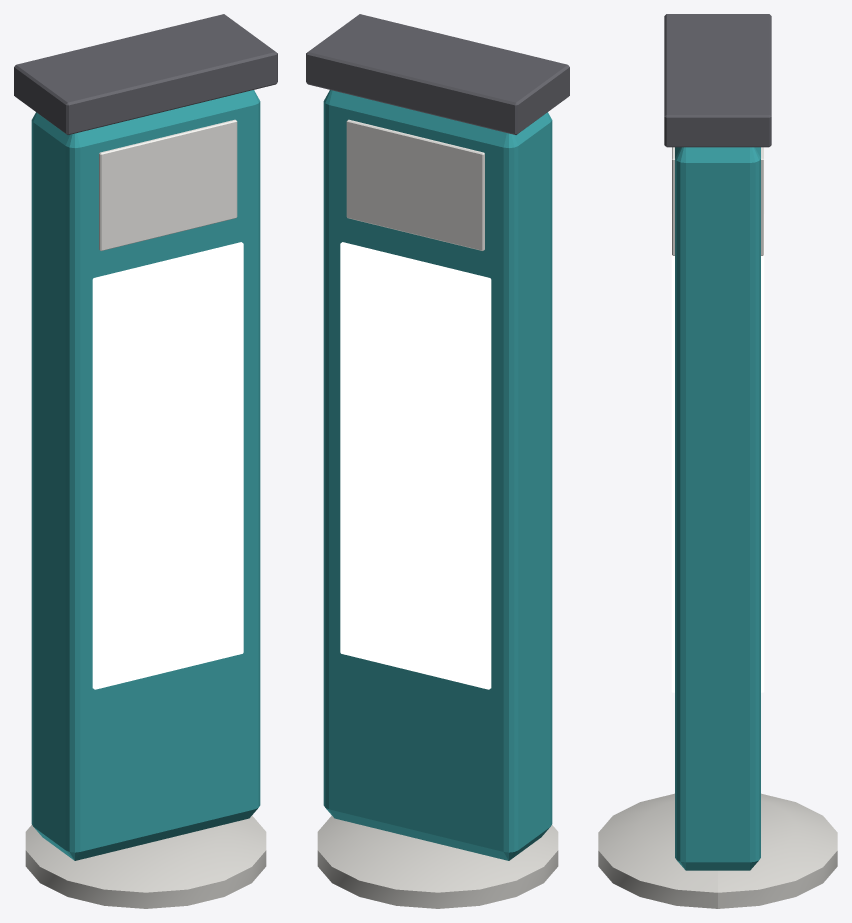
File: motorway-services-and-truck-park-information-totem-3d4c5d3f__35944.glb
The picture shows the model from 3 angles, left to right: view 1: azimuth 30°, elevation 25°; view 2: azimuth 150°, elevation 25°; view 3: azimuth 270°, elevation 25°; orthographic projection.
Visible parts, largest first — view 1: information-totem; view 2: information-totem; view 3: information-totem.
Boxes of the visible parts, box(x1,y1,x2,y2) form: information-totem: box(14, 14, 277, 908); information-totem: box(306, 14, 569, 908); information-totem: box(598, 14, 837, 908).
Size of the model in its own units: 0.68 by 2.45 by 0.6697.
